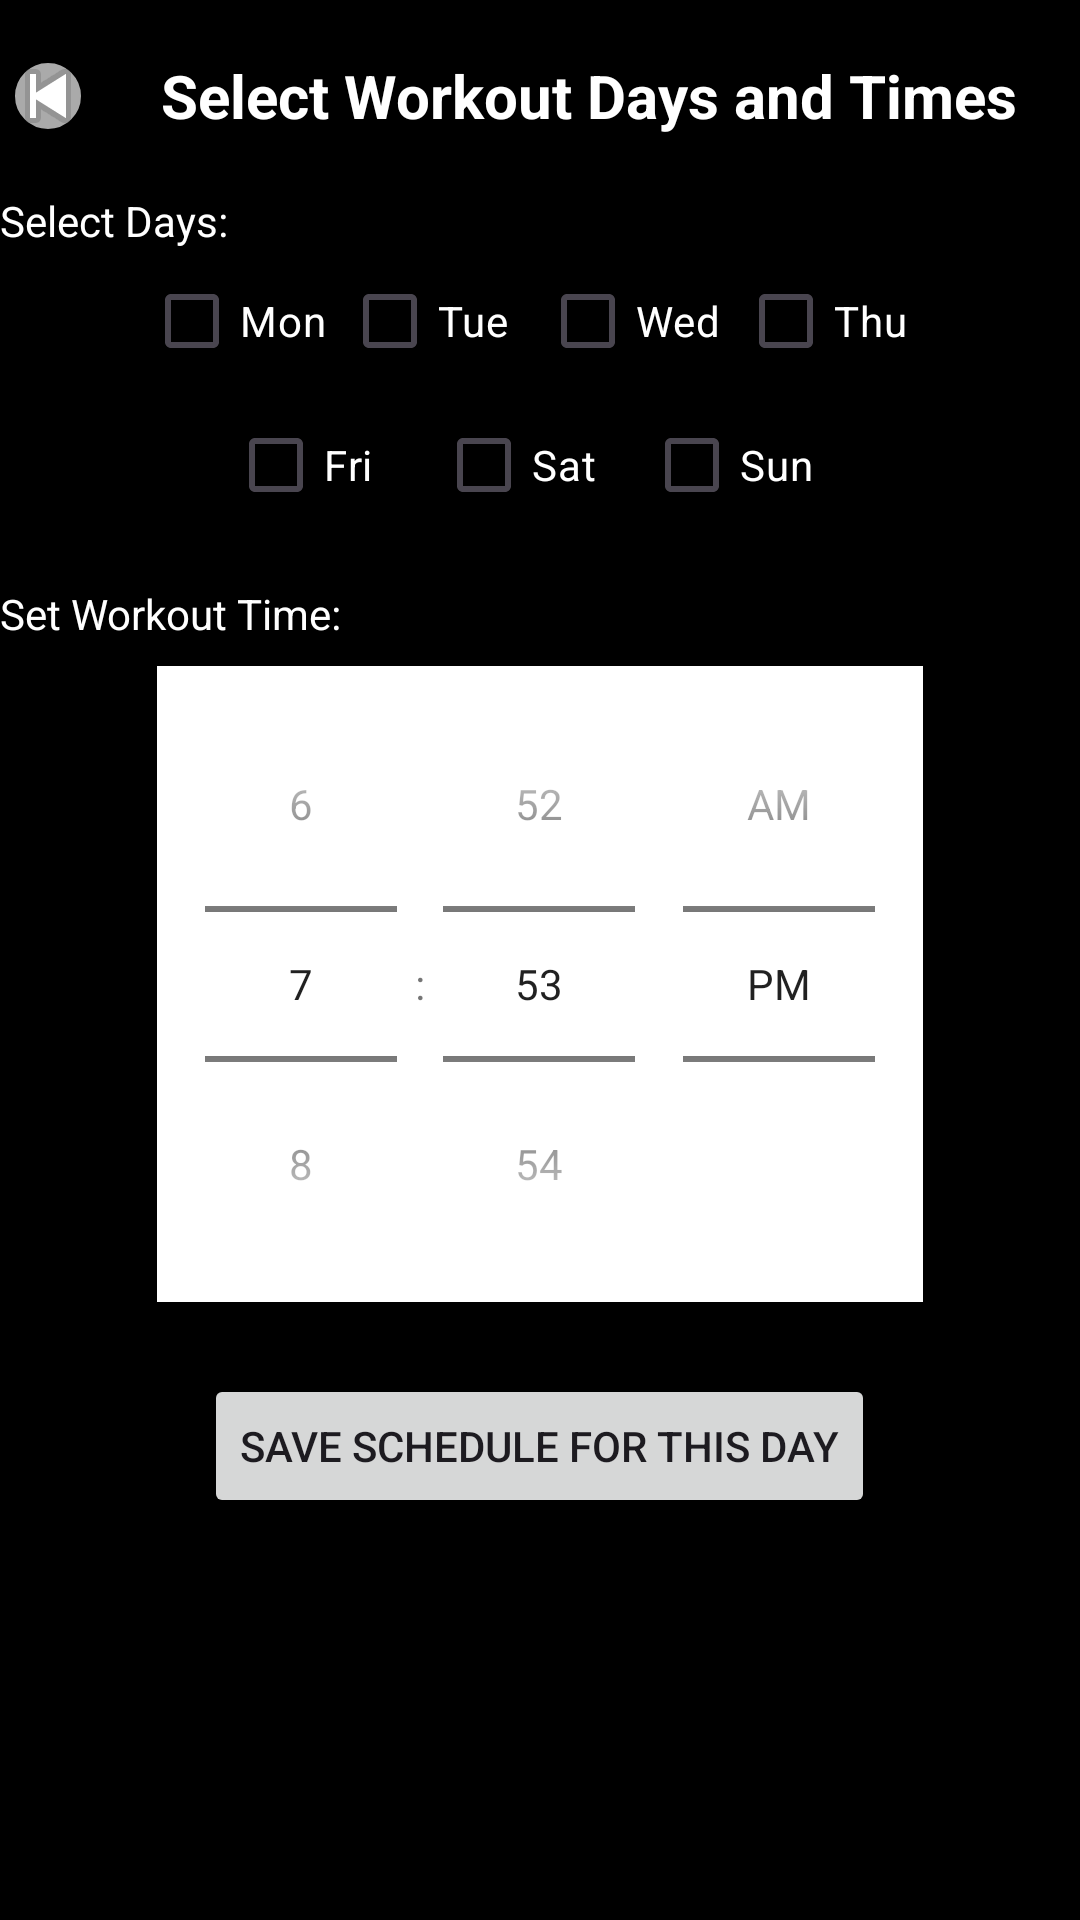

Named icons in this screenshot (1080x1920) and their centers, point (x, y):
previous: point (48, 96)
